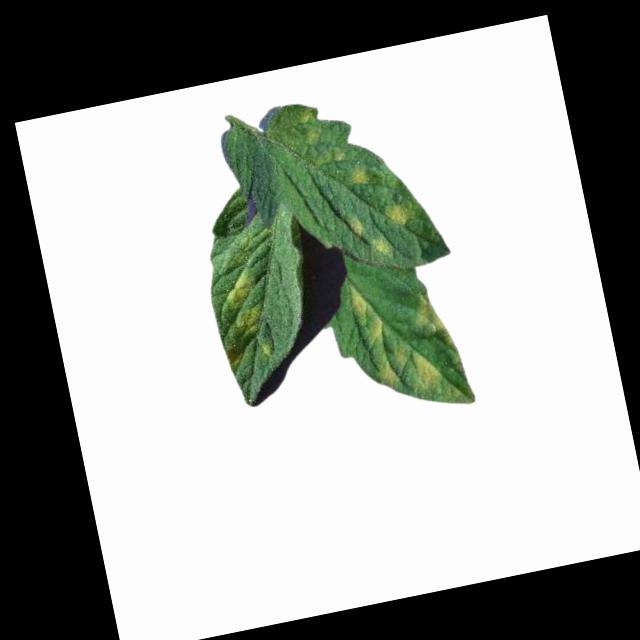Leaf_Mold: (375, 342, 442, 397), (408, 288, 458, 352), (224, 269, 267, 340), (348, 283, 386, 344), (342, 162, 375, 192), (382, 199, 407, 228), (370, 235, 394, 258), (346, 217, 363, 240)
